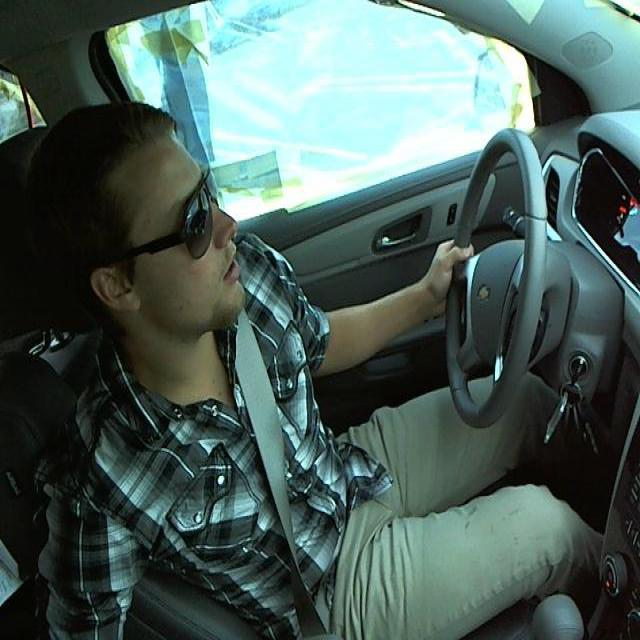seatbelt: (239, 321, 349, 639)
